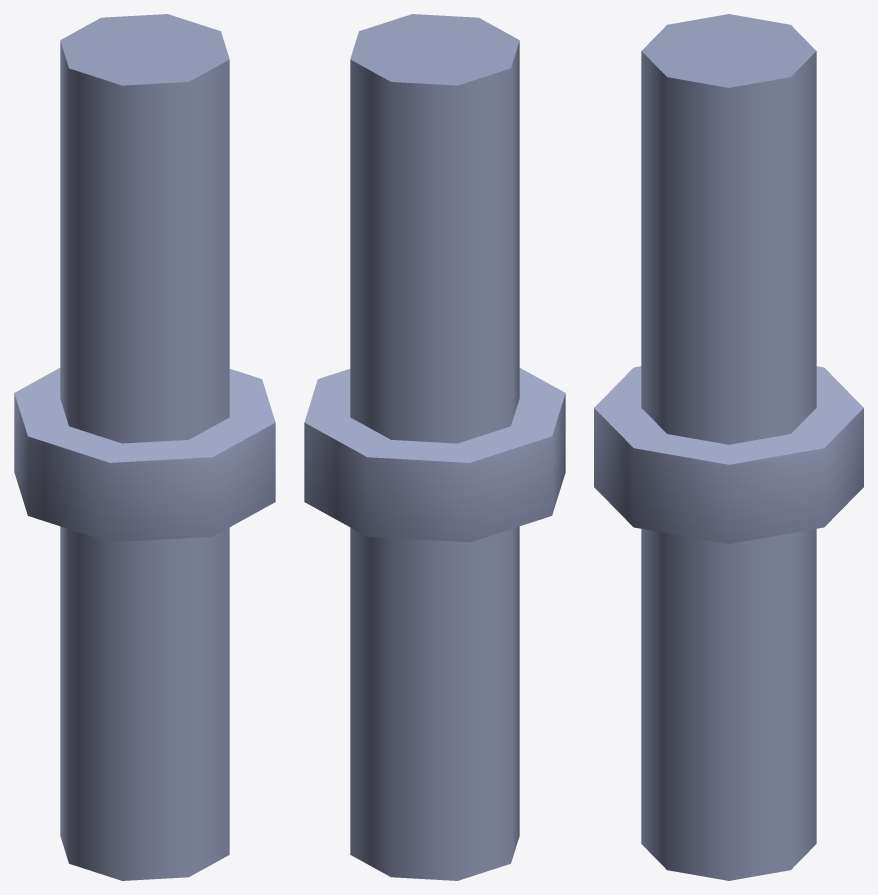
Rendered from building_gutter_vertical_short.glb.
3 views of the same model, side by side, from view 1: azimuth 30°, elevation 25°; view 2: azimuth 150°, elevation 25°; view 3: azimuth 270°, elevation 25° (orthographic).
Parts seen in each view (by area): view 1: gutter-vertical-short; view 2: gutter-vertical-short; view 3: gutter-vertical-short.
Part boxes in pixels (left/top/right/bottom): gutter-vertical-short: left=14, top=14, right=275, bottom=880; gutter-vertical-short: left=304, top=14, right=565, bottom=880; gutter-vertical-short: left=594, top=14, right=863, bottom=880.
Bounding box in the file's own units: 0.3082 × 1 × 0.3082.
Materials: 1 (1 with a texture image).
